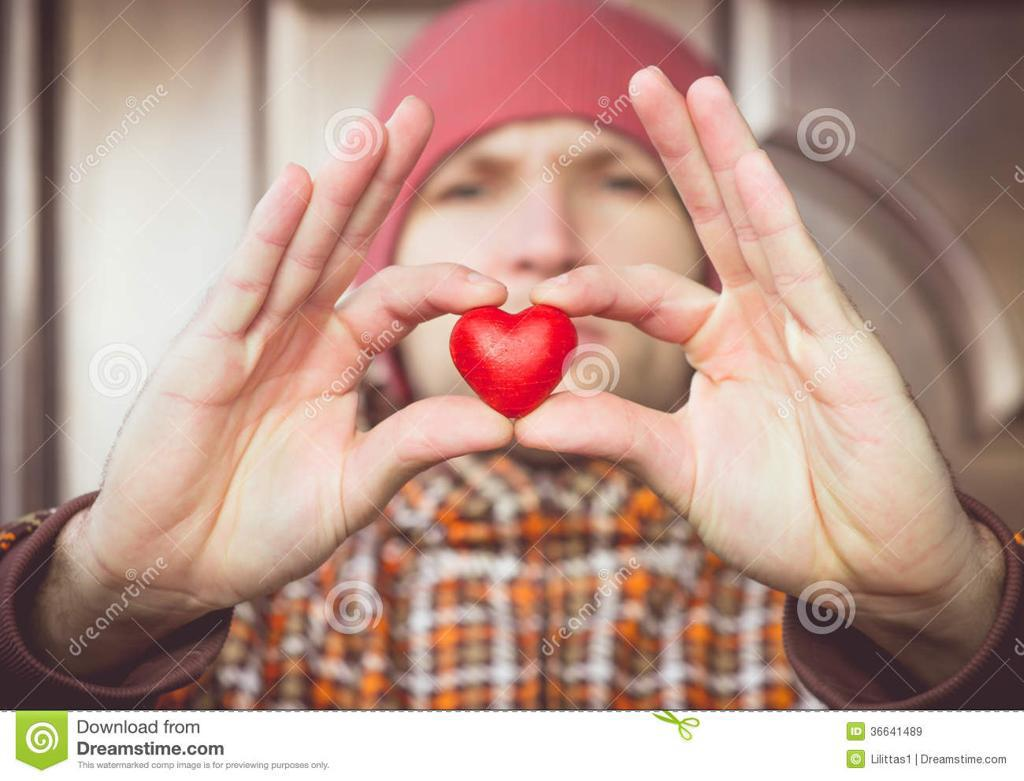face: (397, 37, 701, 443)
